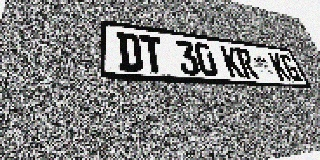0: (193, 42, 219, 77)
3: (175, 40, 201, 76)
D: (117, 32, 143, 72)
G: (279, 54, 303, 82)
K: (220, 46, 245, 78), (267, 52, 292, 81)
R: (234, 48, 260, 79)
T: (140, 35, 166, 74)
